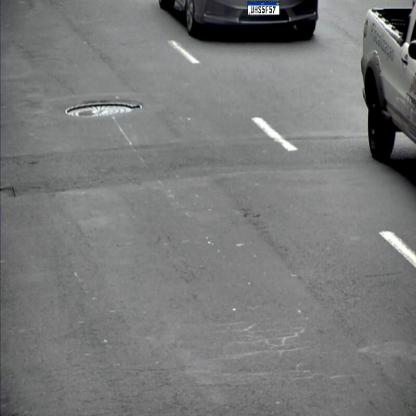PlacaM: (248, 2, 280, 16)
